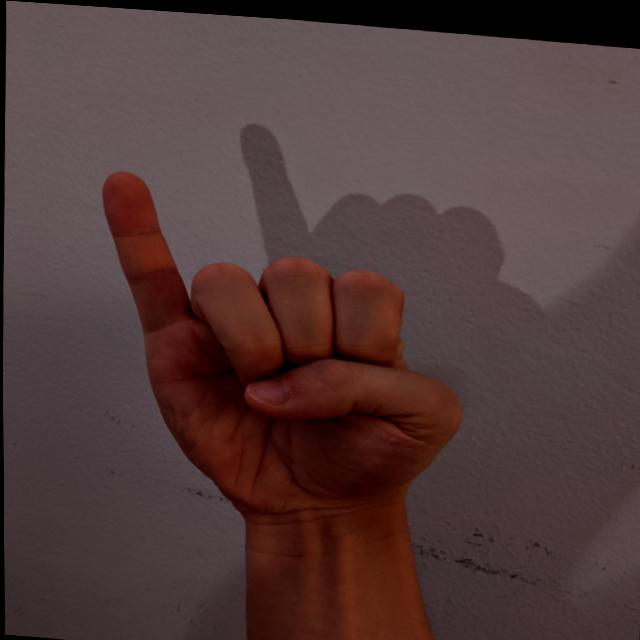I: (88, 161, 473, 528)
